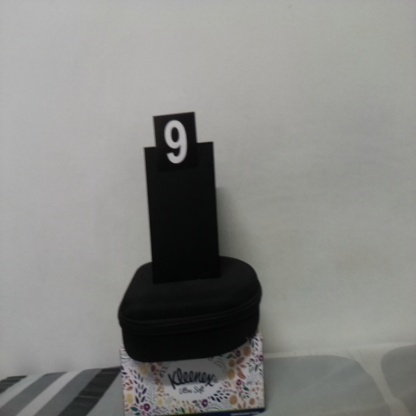id_9: (154, 115, 197, 184)
